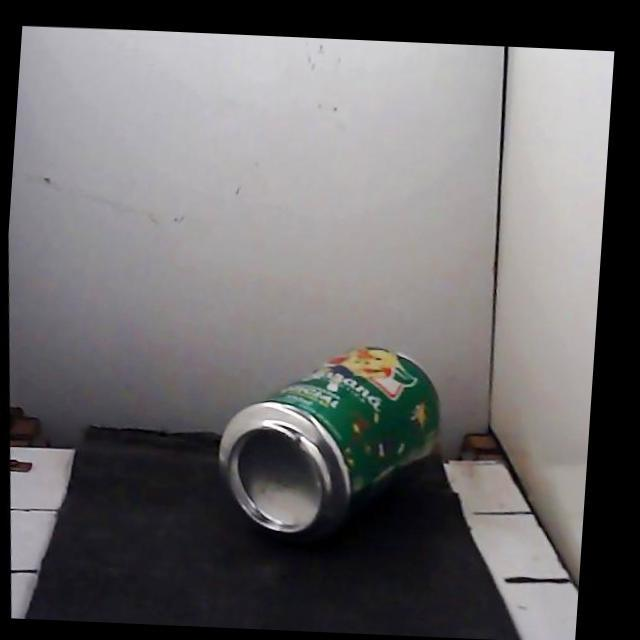metal: (219, 347, 438, 537)
